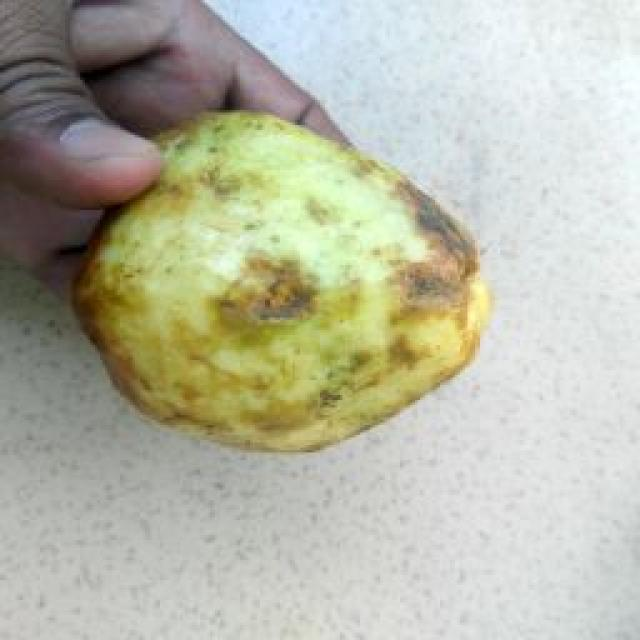Bad_Guava: (74, 114, 489, 451)
